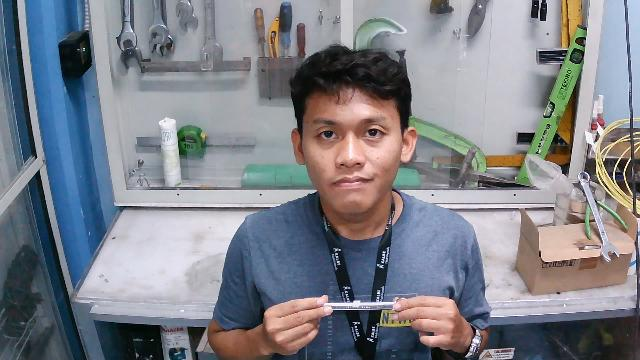kunci_pass_13: (299, 291, 414, 330)
